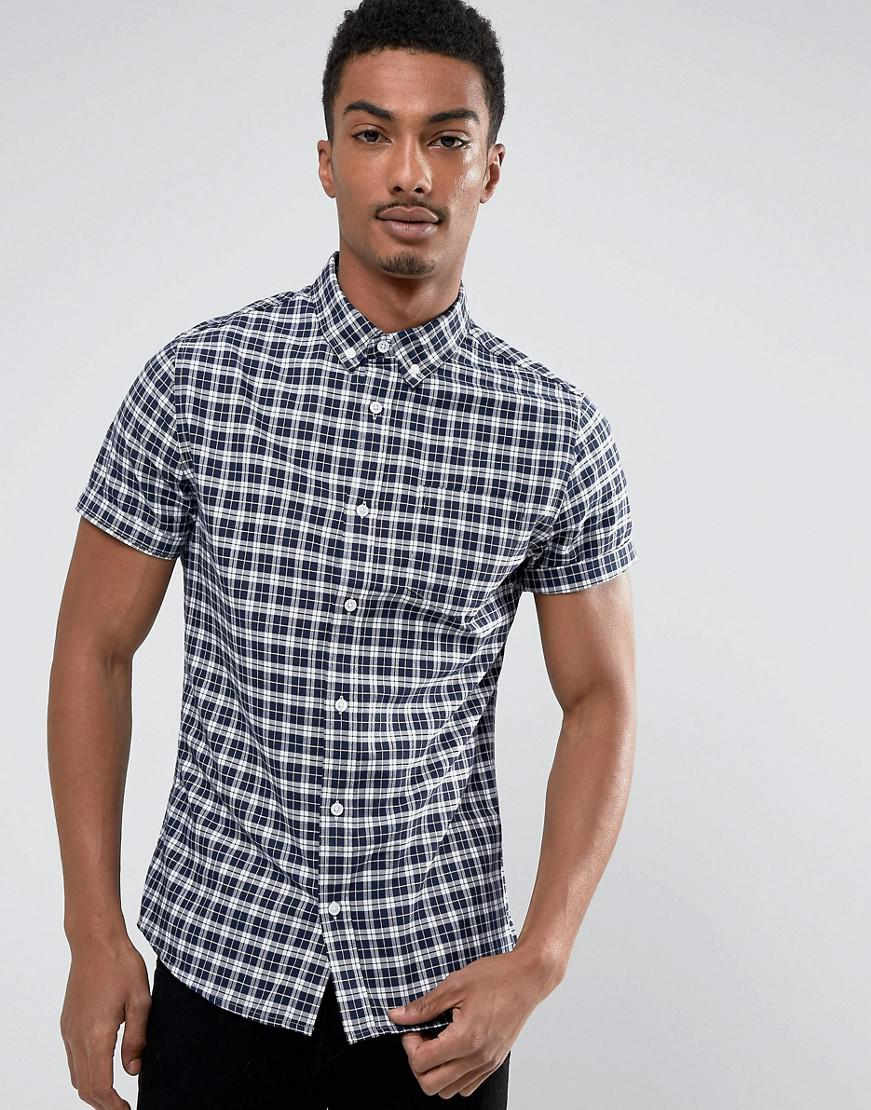teeshirt: (68, 274, 632, 993)
